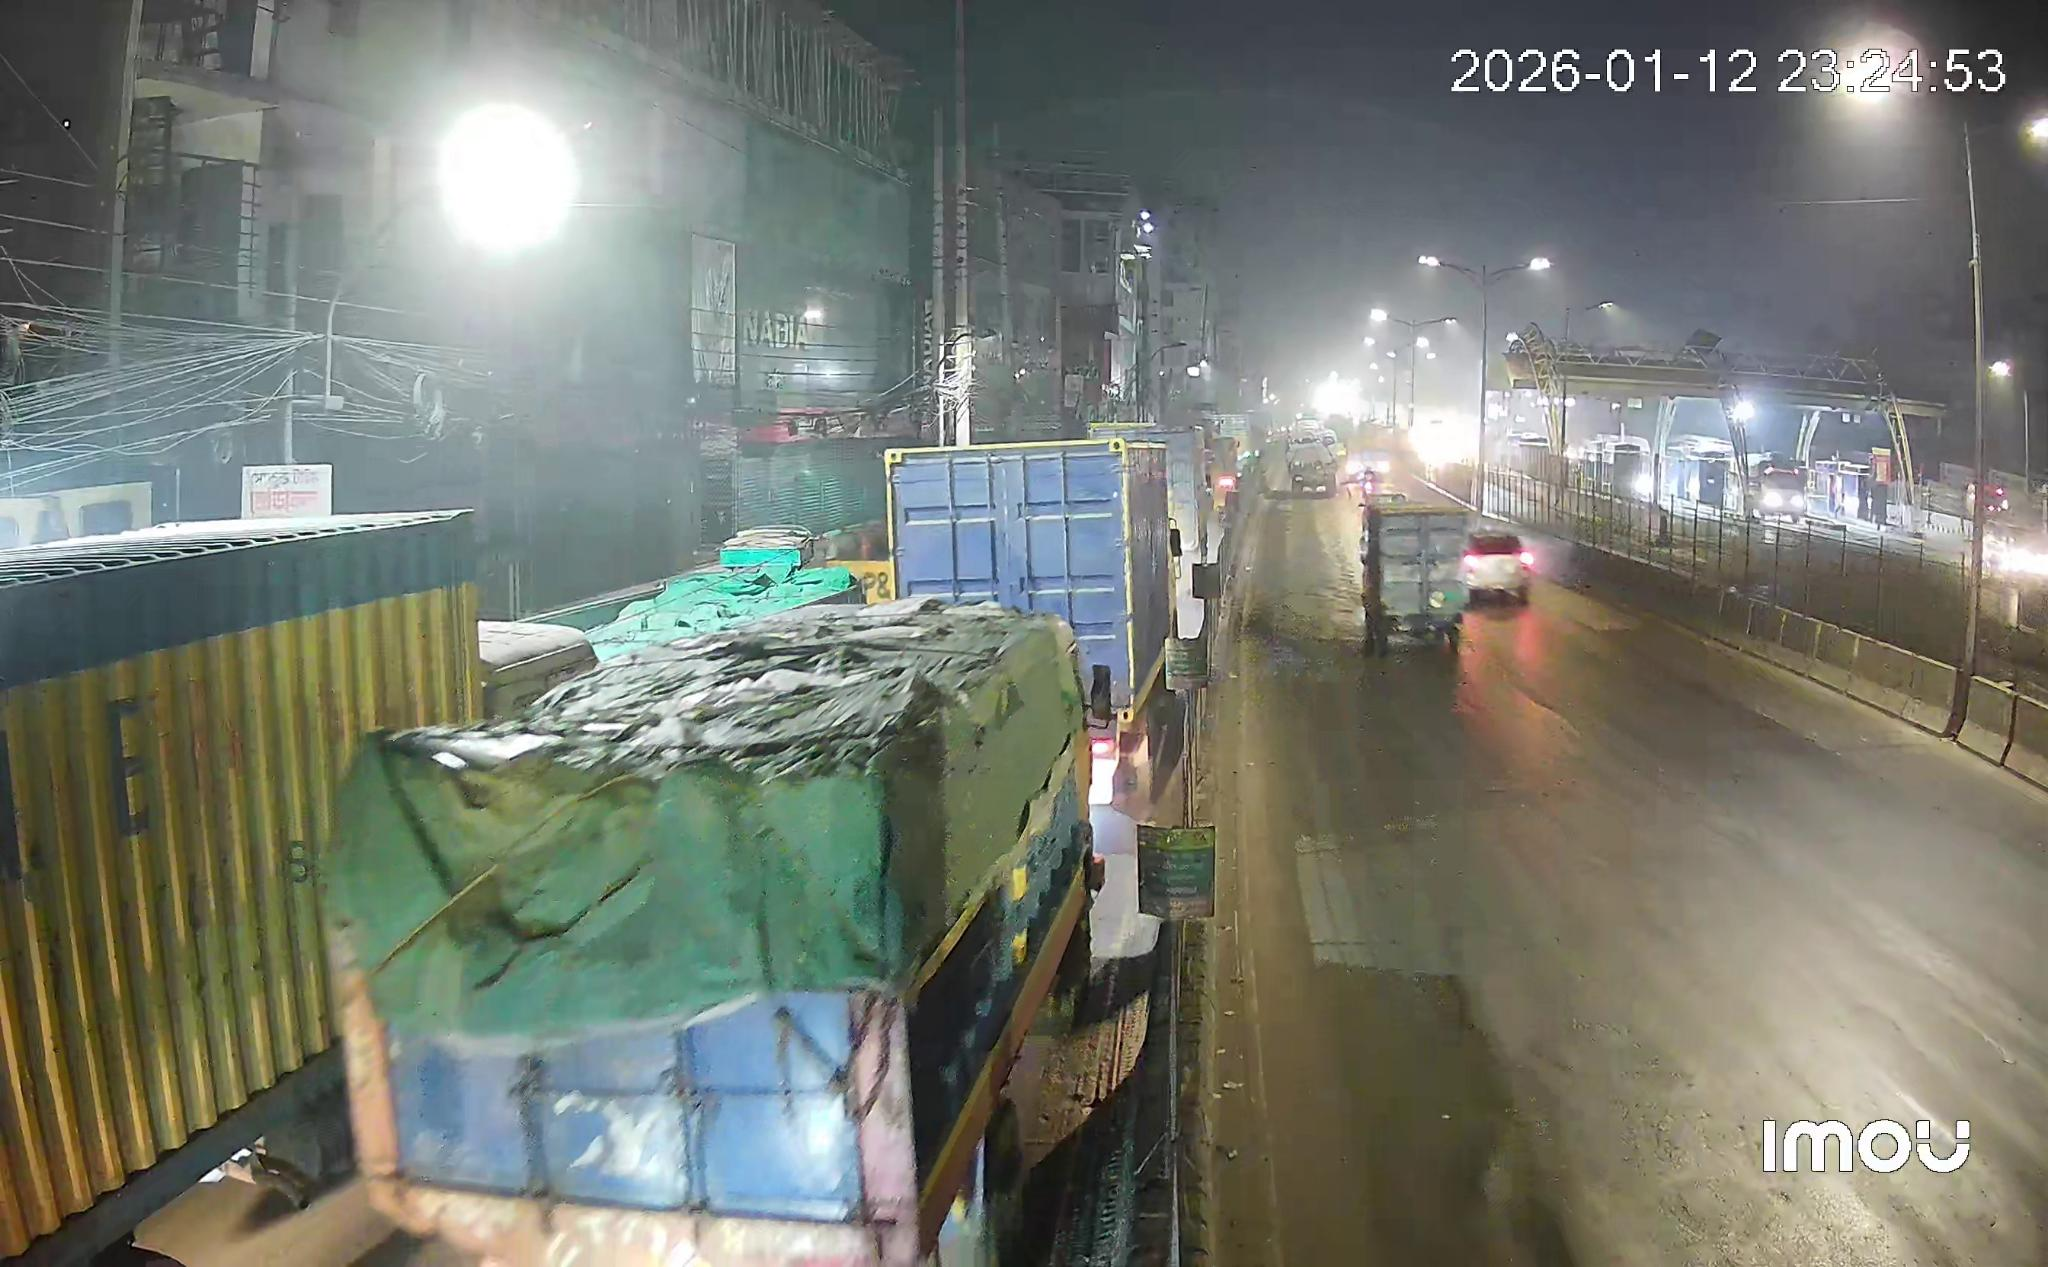Private-Sedan Car: (1464, 532, 1533, 605)
Truck: (322, 600, 1099, 1267), (0, 511, 597, 1267), (885, 438, 1184, 809), (1359, 492, 1472, 656)
